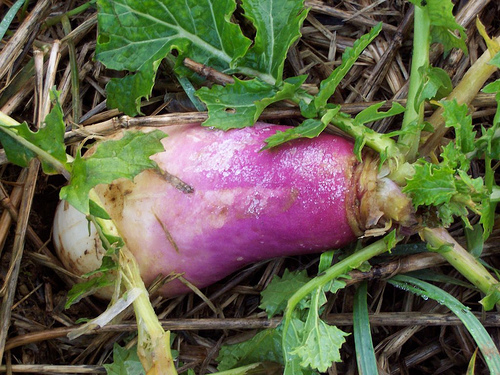turnip: (56, 113, 397, 307)
